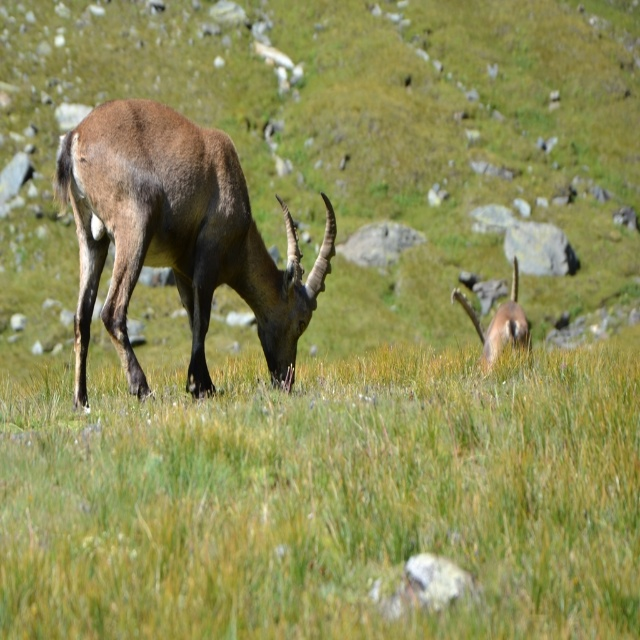Deer: (48, 98, 337, 412), (450, 257, 536, 376)
